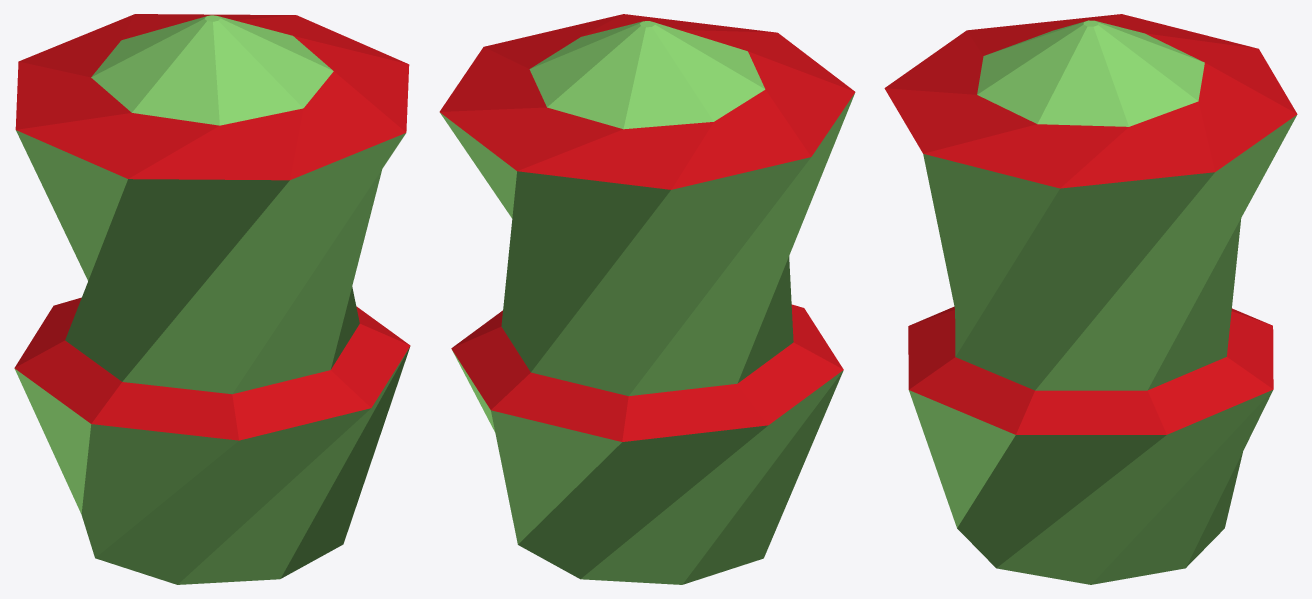
Rendered from SmallGrass.fbx.
3 views of the same model, side by side, from view 1: azimuth 30°, elevation 25°; view 2: azimuth 150°, elevation 25°; view 3: azimuth 270°, elevation 25° (orthographic).
Parts seen in each view (by area): view 1: Cylinder; view 2: Cylinder; view 3: Cylinder.
Boxes of the visible parts, x1=… form: Cylinder: x1=14, y1=14, x2=410, y2=584; Cylinder: x1=439, y1=14, x2=855, y2=584; Cylinder: x1=884, y1=14, x2=1297, y2=584.
Size of the model in its own units: 309 by 416 by 309.
